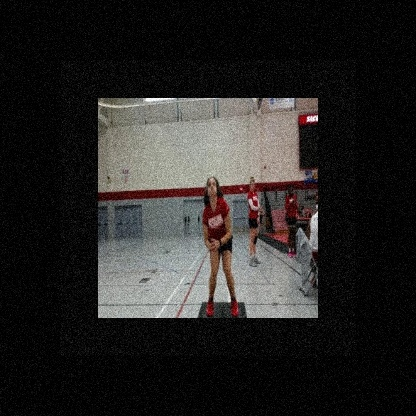lateral_flexion_right: (202, 174, 240, 318)
stance_width_broad: (202, 195, 239, 318)
